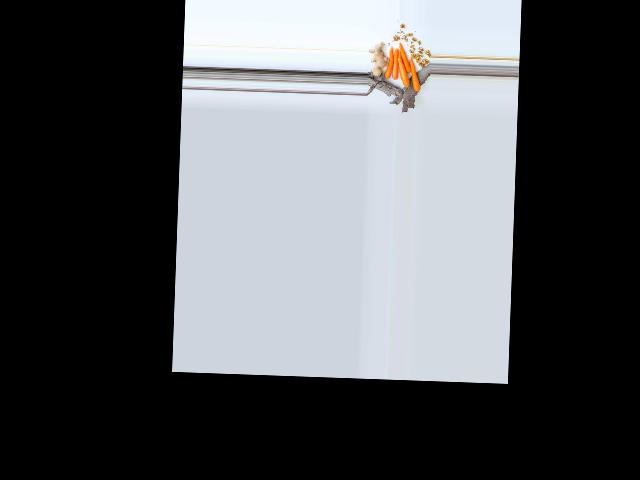carrot: (380, 47, 395, 80)
